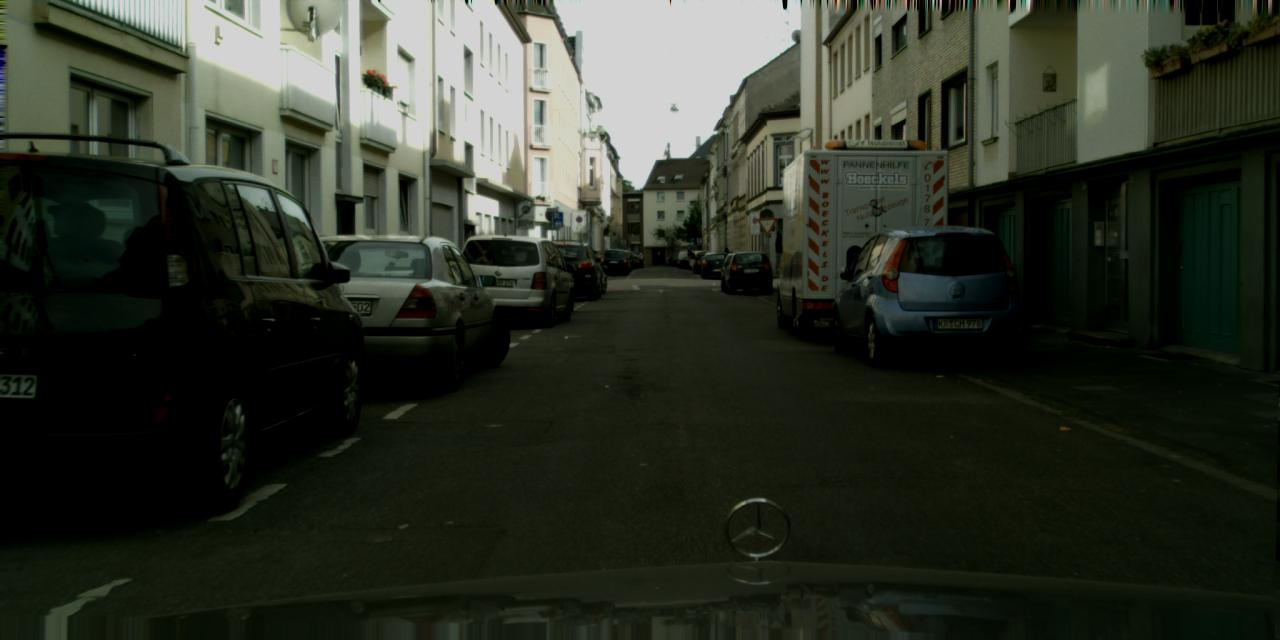ped: (686, 250, 695, 272), (721, 248, 730, 270)
